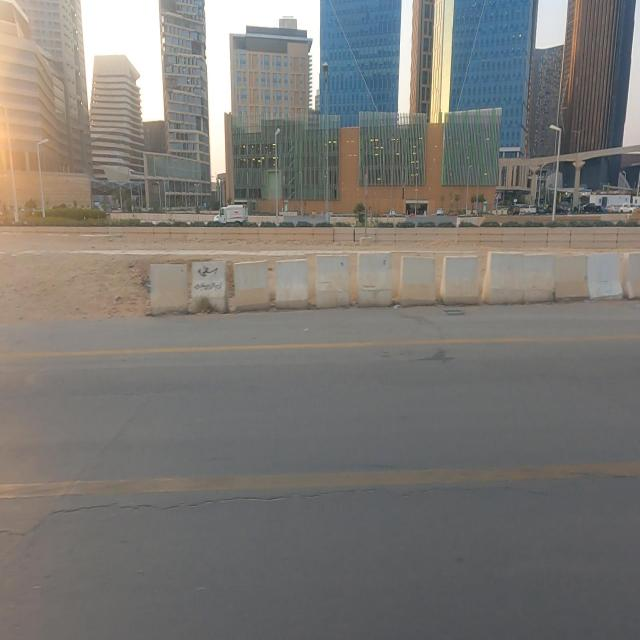Graffiti: (192, 266, 223, 294)
